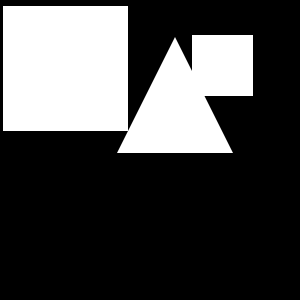circle: (3, 6, 128, 131), (192, 35, 253, 96)
triangle: (117, 37, 233, 153)
